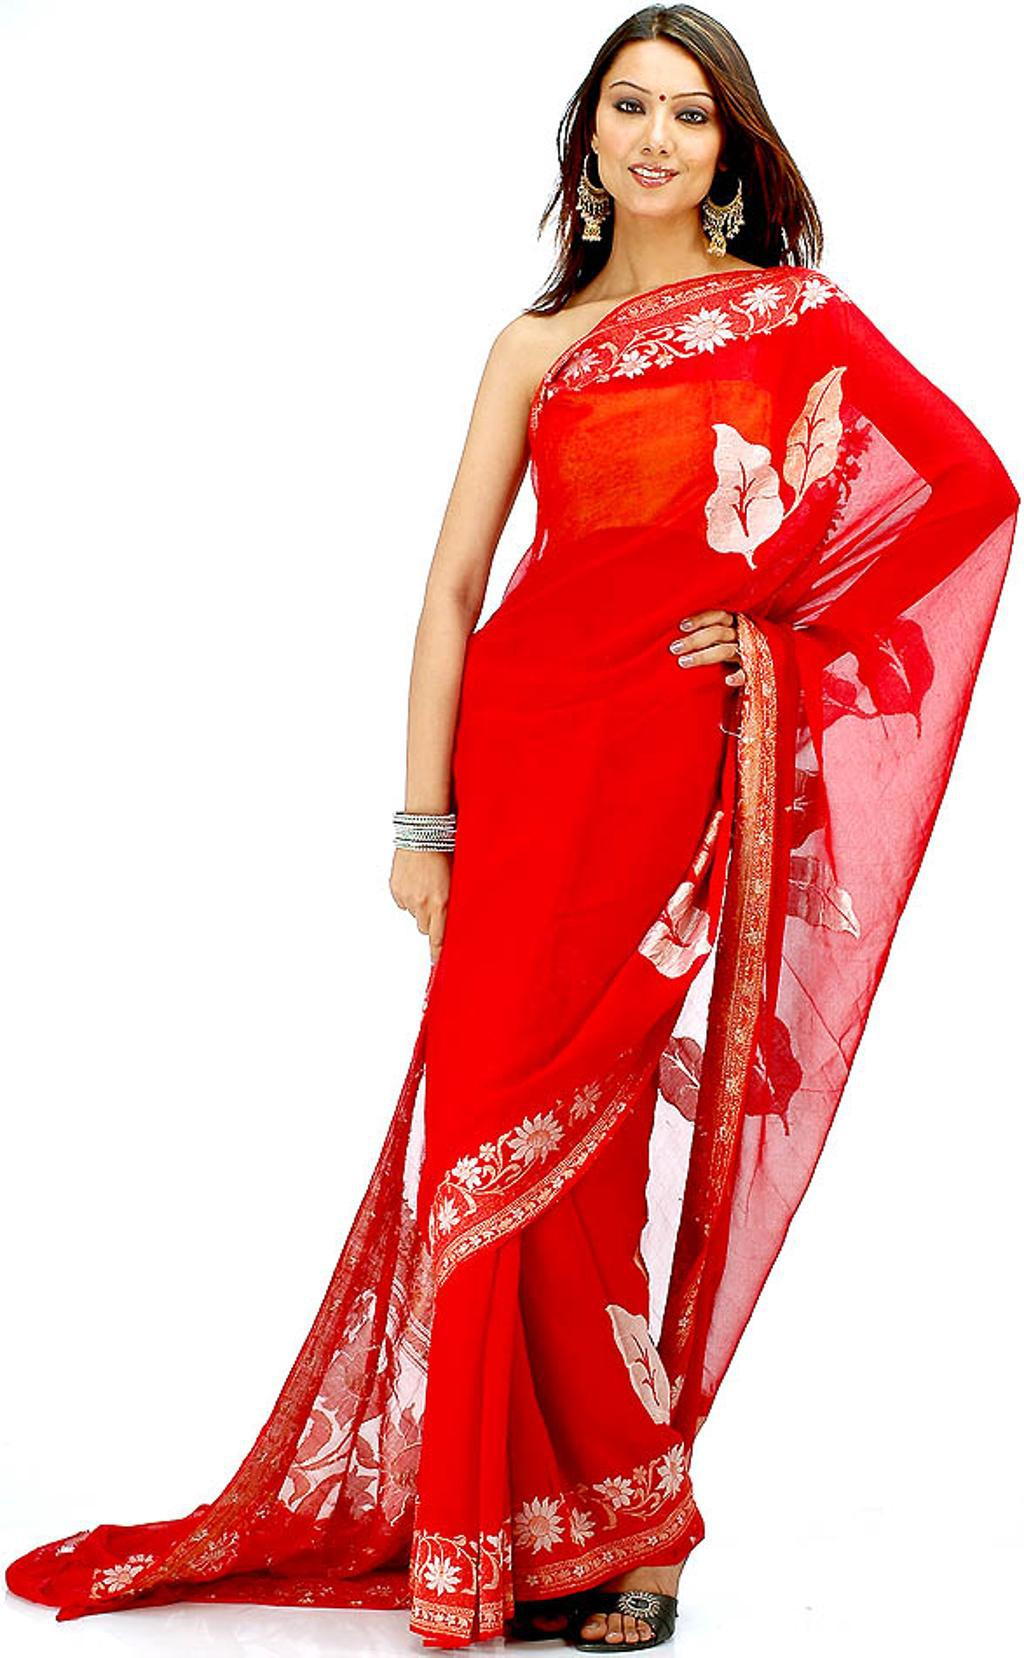face: (594, 40, 724, 218)
